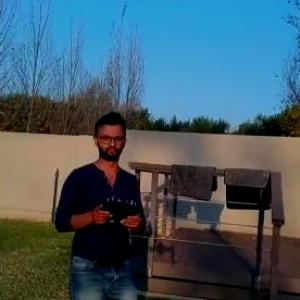follow: (47, 106, 148, 299)
